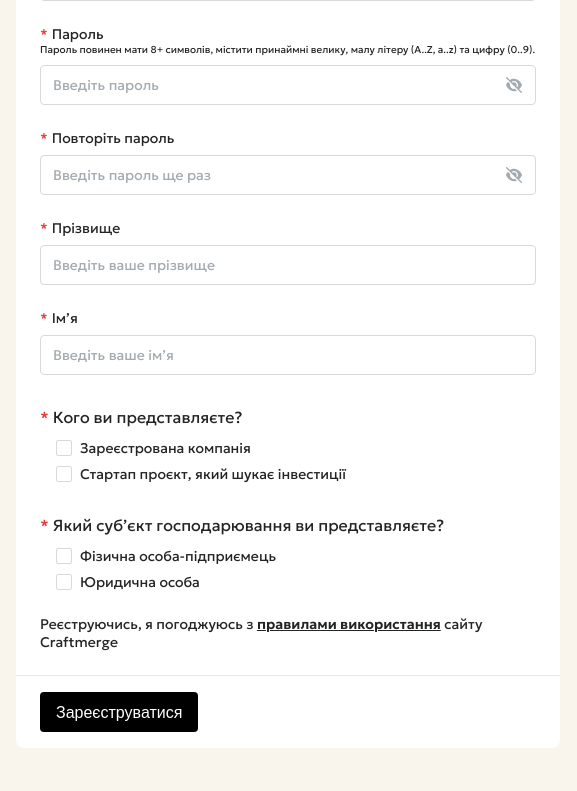
Test case: Register page › clears a choice error once an option is picked
The width and height of the screenshot is (577, 791).
(page scrolled)
Click the button "Зареєструватися". click: (119, 712)
box: x1=40 y1=692 x2=198 y2=732
(page scrolled)
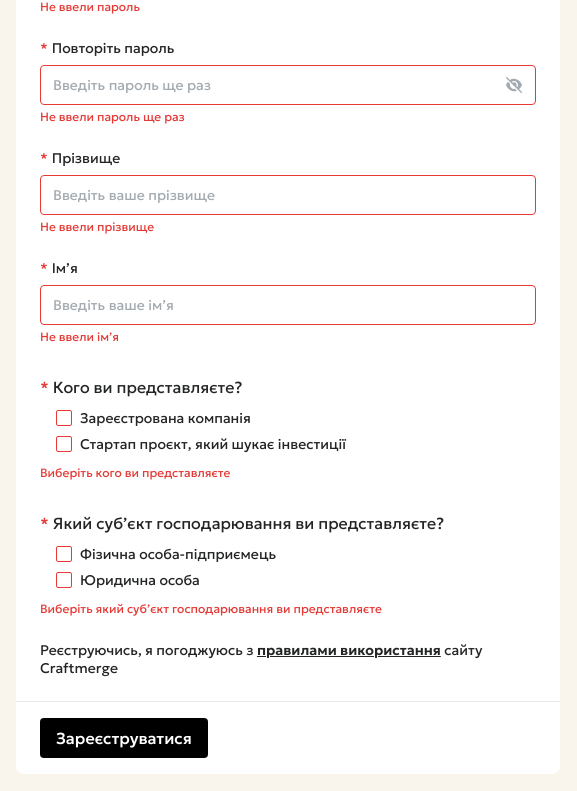
Result: the text "Виберіть кого ви представляєте" is shown at x1=40 y1=465 x2=230 y2=480
Click the radio button labelled "Зареєстрована компанія". click: (64, 418)
box: x1=56 y1=410 x2=72 y2=426
(page scrolled)
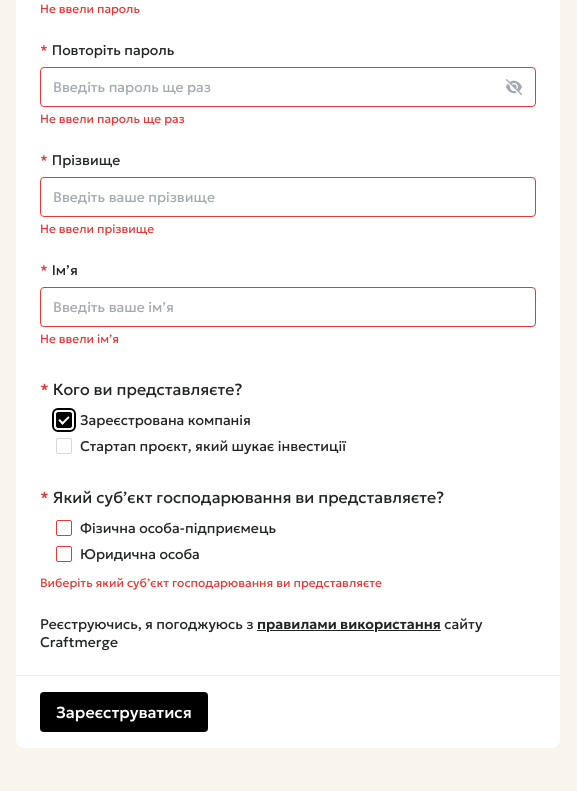
Result: the text "Виберіть який суб’єкт господарювання ви представляєте" is shown at x1=40 y1=575 x2=382 y2=590
Result: the text "Виберіть кого ви представляєте" is gone
